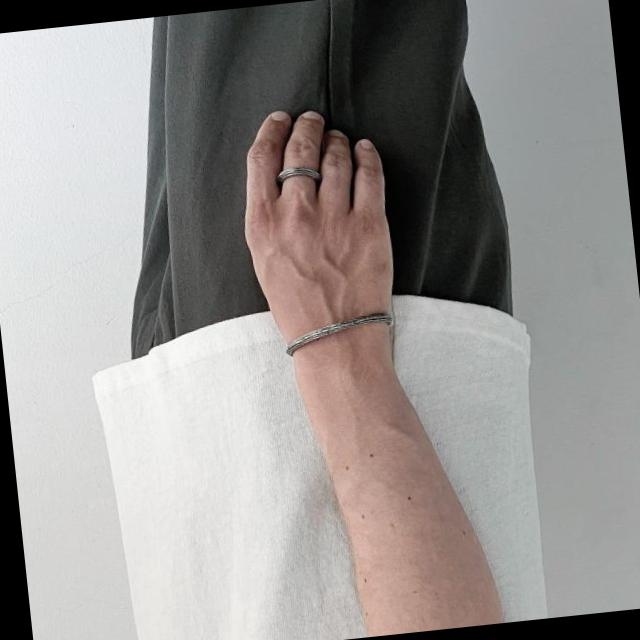Nail: (299, 109, 321, 122), (268, 109, 287, 121), (357, 136, 372, 150), (325, 127, 344, 137)
